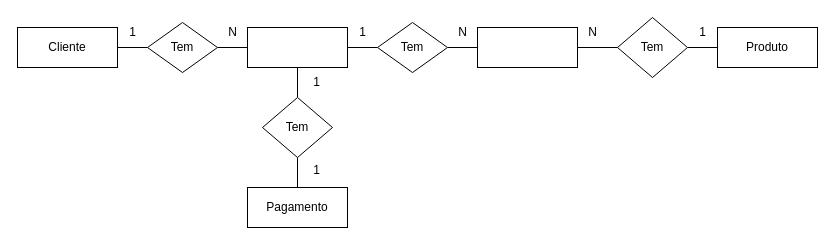
The diagram is 835 pixels wide and 245 high, and some of its shapes have lost their labels. The centre of each missing label's shape, as x and y in pixels:
Item-do-pedido: (527,47)
Pedido: (297,47)
